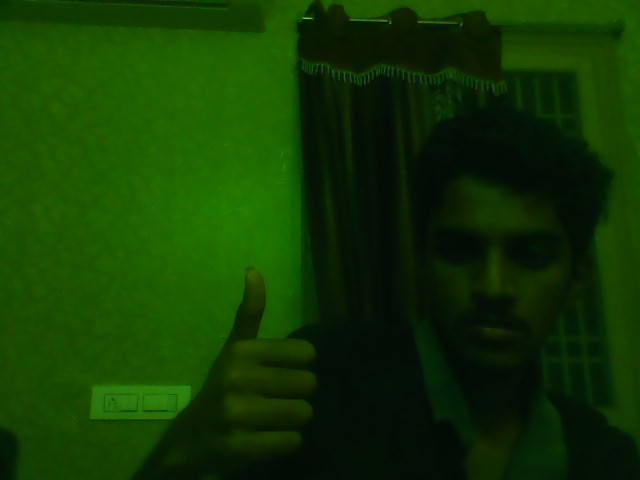thumbsup: (202, 265, 323, 465)
